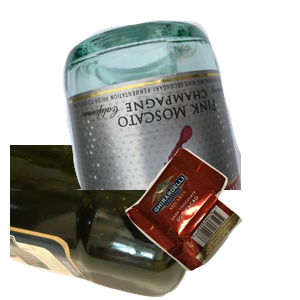glass: (60, 17, 300, 197)
metal: (89, 48, 276, 192)
plastic: (10, 145, 213, 300)
trash: (123, 145, 300, 300)
